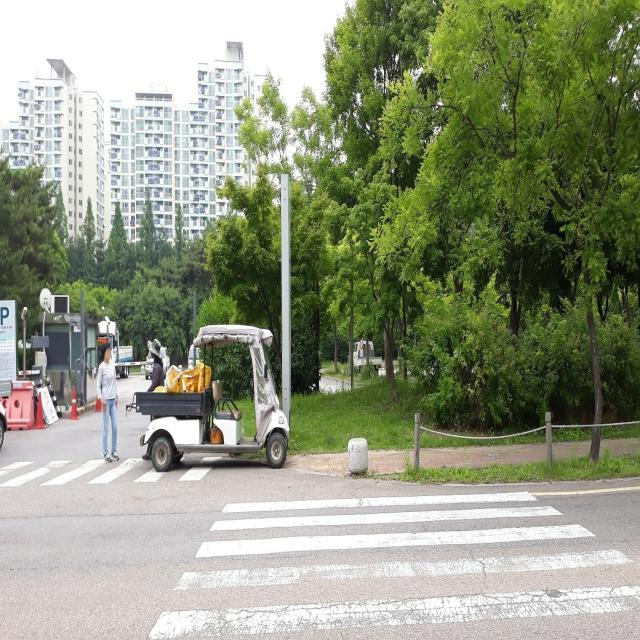횡단보도: (145, 488, 640, 640), (0, 443, 230, 501)
